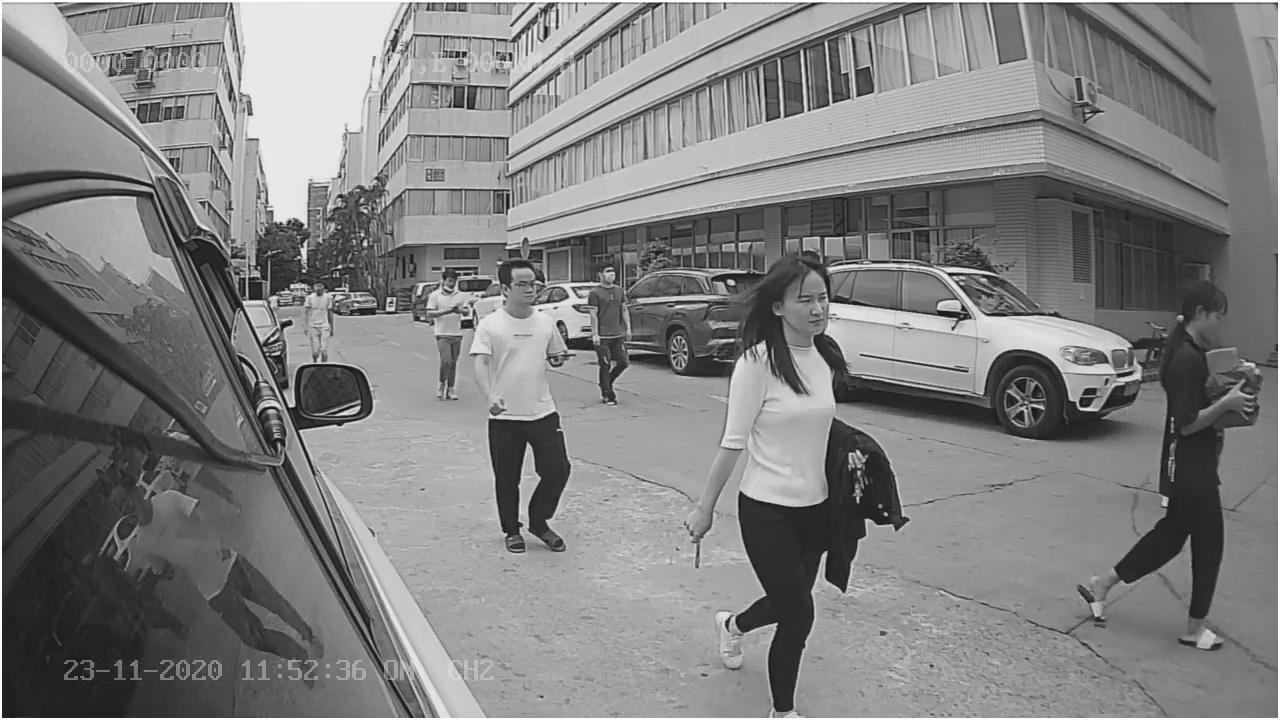person: (688, 267, 845, 705), (468, 263, 570, 549)
